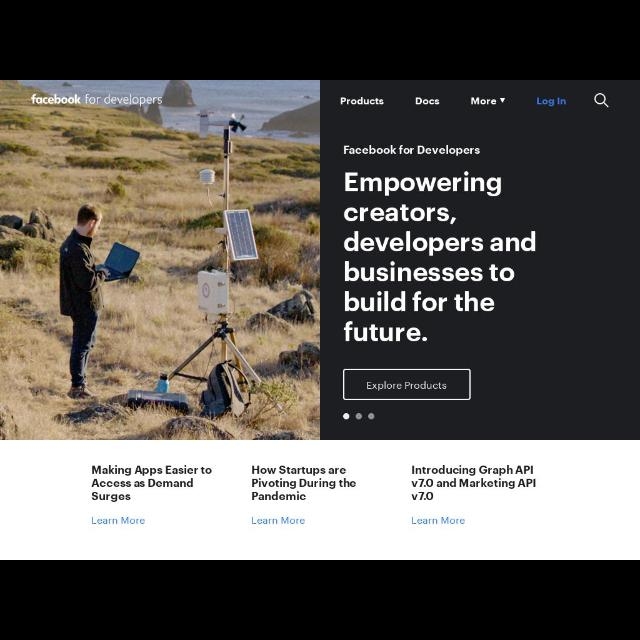icon: (594, 93, 610, 109), (499, 98, 505, 102)
image: (0, 80, 320, 440)
multitab: (340, 97, 566, 107)
pageindicator: (343, 414, 375, 421)
panel: (321, 80, 639, 440), (1, 440, 639, 560)
text: (345, 172, 535, 342), (92, 464, 212, 502), (412, 466, 536, 500), (252, 466, 356, 500), (344, 146, 481, 156), (367, 381, 447, 391), (92, 517, 146, 525), (252, 516, 304, 524), (412, 516, 464, 524), (340, 97, 384, 105), (536, 97, 566, 107), (471, 97, 497, 105), (414, 98, 440, 104)
textbutton: (343, 368, 471, 400)
